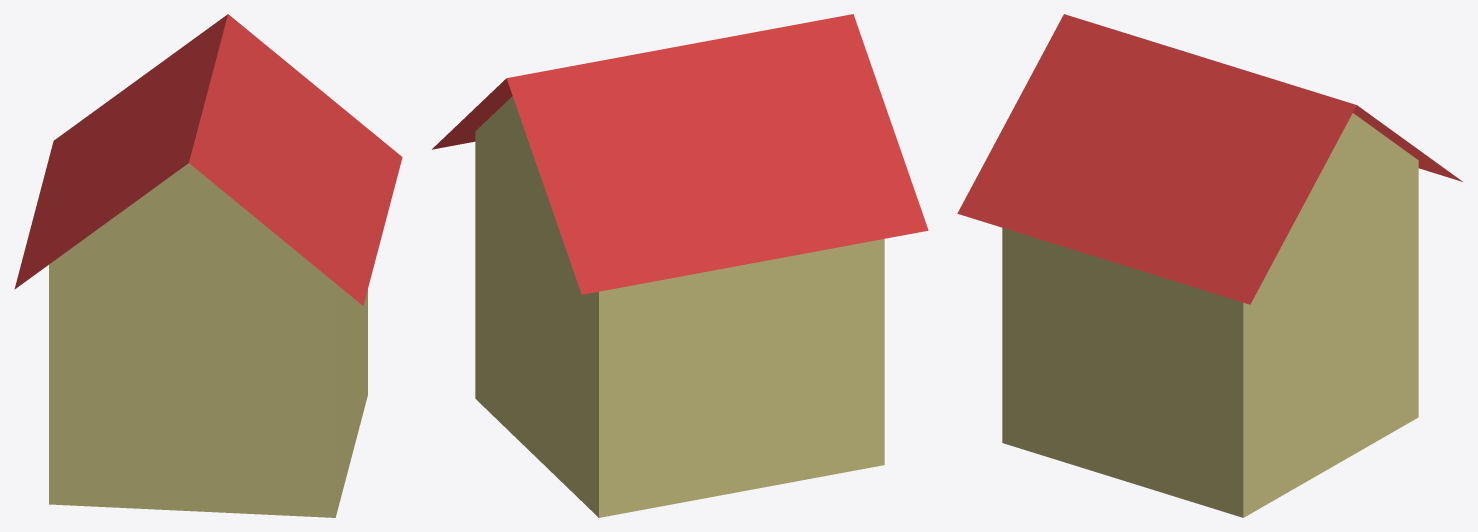
3 renders of one model, left to right at view 1: azimuth 30°, elevation 25°; view 2: azimuth 150°, elevation 25°; view 3: azimuth 270°, elevation 25°, orthographic. The views are drawn at different scales.
Parts seen in each view (by area): view 1: group_5, group_3, group_4; view 2: group_5, group_3, group_4; view 3: group_5, group_3, group_4.
Part boxes in pixels (x1,y1,x2,y2): group_5: (49,163,367,517); group_3: (14,14,402,305); group_4: (189,15,362,305); group_5: (475,96,884,517); group_3: (506,14,928,294); group_4: (432,78,668,283); group_5: (1002,113,1418,517); group_3: (958,22,1356,304); group_4: (957,14,1462,213).
Bounding box in the file's own units: 15.71 × 15.73 × 12.71.
